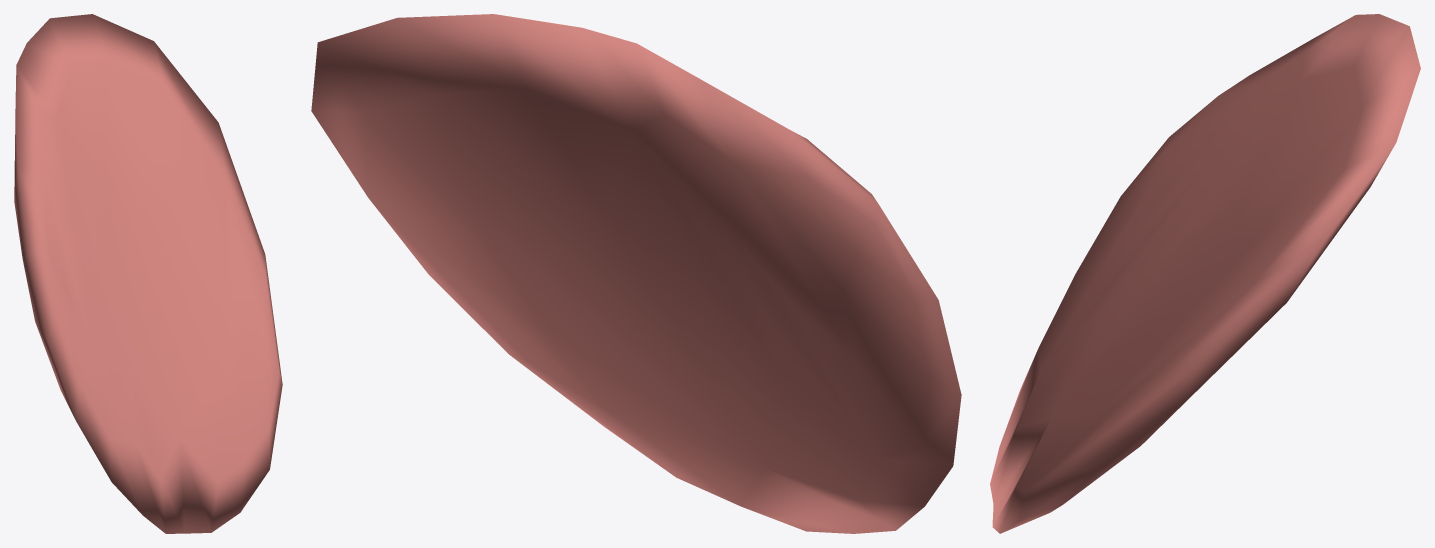
The picture shows the model from 3 angles, left to right: view 1: azimuth 30°, elevation 25°; view 2: azimuth 150°, elevation 25°; view 3: azimuth 270°, elevation 25°; orthographic projection. The views are drawn at different scales.
Parts seen in each view (by area): view 1: ZA_7801588a5d7b36fc; view 2: ZA_7801588a5d7b36fc; view 3: ZA_7801588a5d7b36fc.
Part boxes in pixels (x1,y1,x2,y2): ZA_7801588a5d7b36fc: [14, 14, 282, 533]; ZA_7801588a5d7b36fc: [311, 14, 961, 533]; ZA_7801588a5d7b36fc: [990, 14, 1420, 533].
Size of the model in its own units: 0.0036 by 0.00539 by 0.00419.
